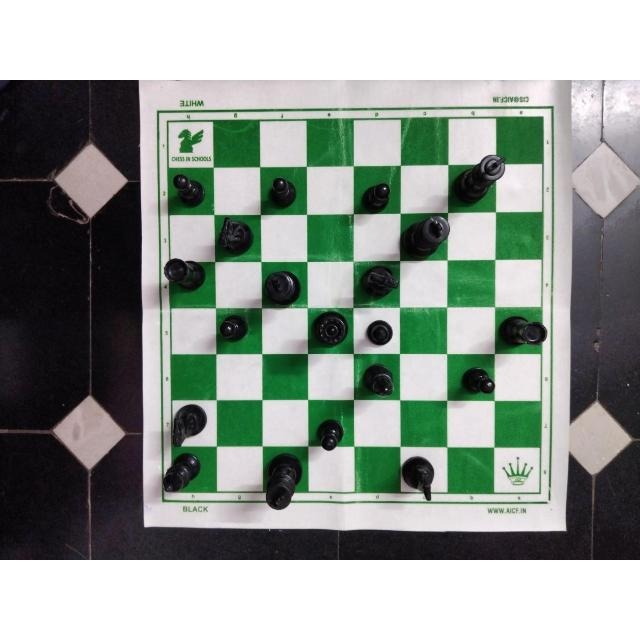black-bishop: (159, 451, 202, 496), (362, 360, 400, 401)
black-king: (451, 151, 508, 206), (262, 450, 306, 511), (400, 214, 453, 262), (261, 267, 302, 307)
black-knight: (168, 399, 210, 450), (398, 452, 437, 502), (213, 214, 254, 256), (358, 263, 400, 300)
black-pawn: (170, 172, 209, 208), (457, 365, 499, 397), (217, 312, 253, 345), (315, 415, 347, 452), (267, 174, 300, 209), (359, 181, 395, 213), (364, 317, 396, 347)
black-queen: (310, 310, 352, 352)
black-rook: (497, 313, 549, 351), (162, 256, 209, 293)
